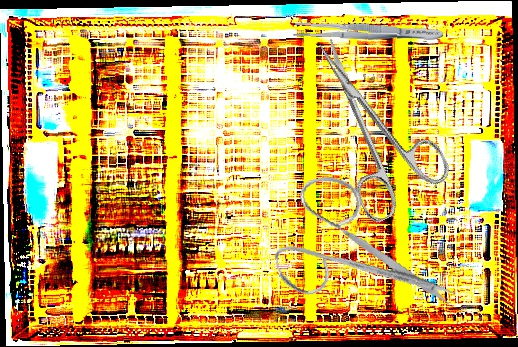Dressing Forceps: (293, 19, 444, 45)
Iris Scissors: (259, 154, 459, 341), (285, 17, 458, 227)
